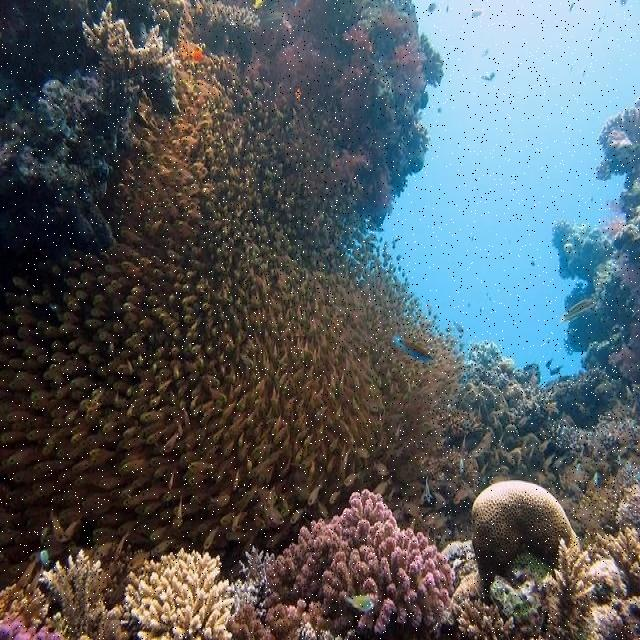fish: (0, 54, 494, 587), (390, 330, 438, 366), (559, 297, 599, 321)
reefs: (263, 490, 454, 632), (456, 479, 582, 602), (125, 548, 240, 639), (79, 1, 186, 69), (37, 549, 113, 637), (545, 544, 599, 636)
